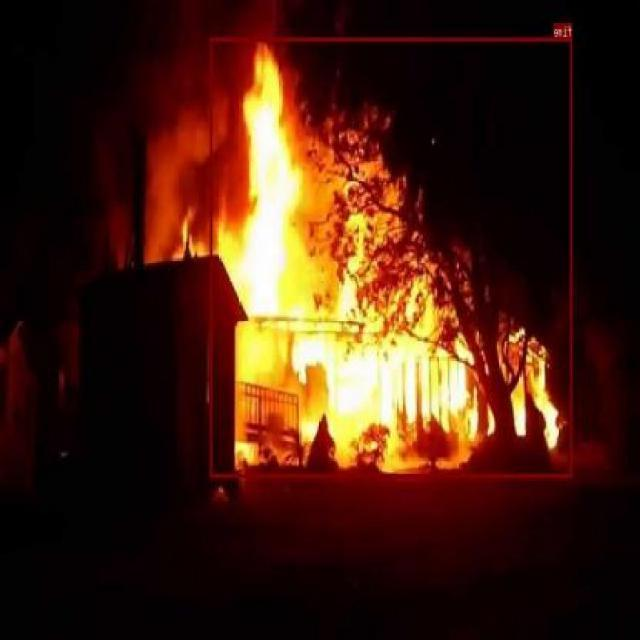Fire: (210, 36, 573, 476)
